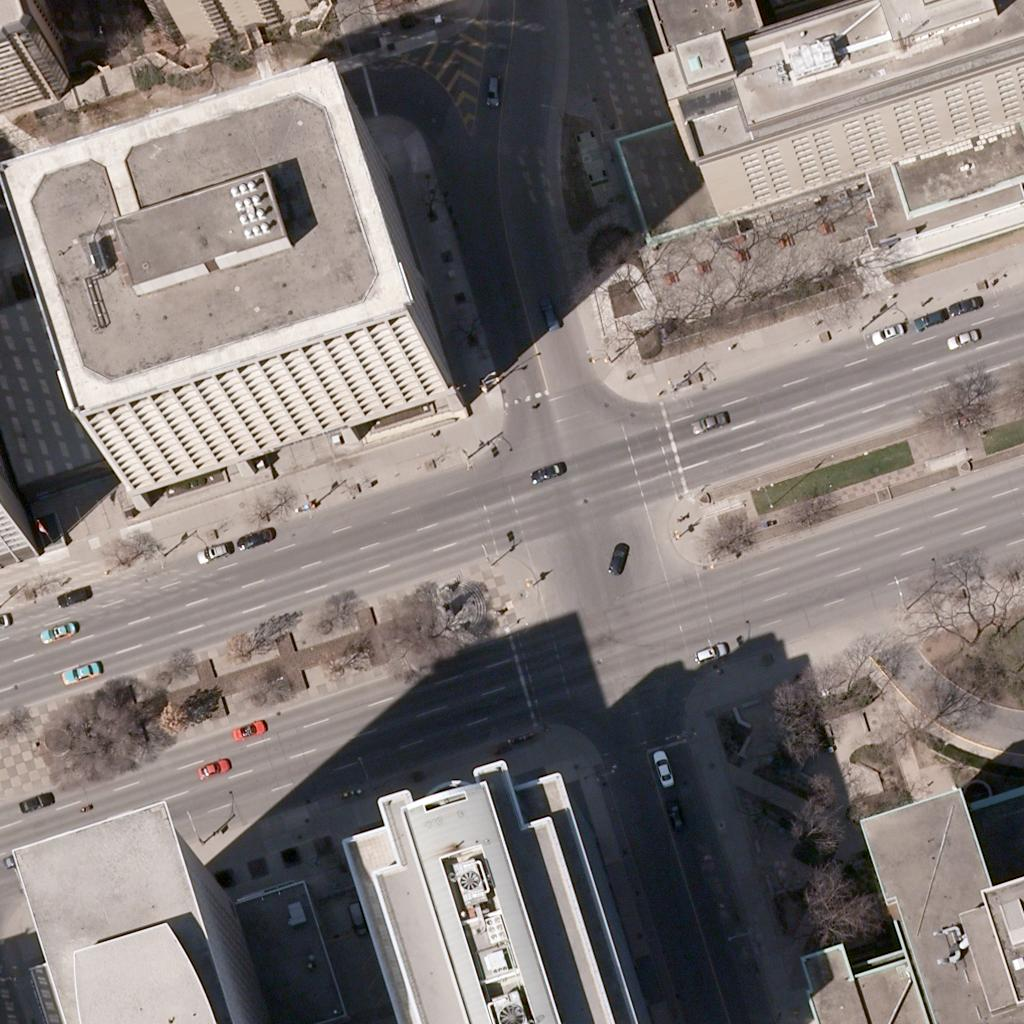car: (475, 65, 509, 99), (947, 286, 981, 320), (532, 296, 566, 330), (915, 301, 949, 335), (868, 314, 902, 348), (945, 320, 979, 354), (693, 403, 727, 437), (531, 451, 565, 485), (238, 519, 272, 553), (198, 534, 232, 568), (600, 541, 634, 575), (55, 578, 89, 612), (42, 613, 76, 647), (693, 634, 727, 668), (65, 653, 99, 687), (229, 712, 263, 746), (193, 750, 227, 784), (645, 750, 679, 784), (12, 785, 46, 819), (660, 794, 694, 828), (340, 901, 374, 935), (0, 840, 31, 874)
